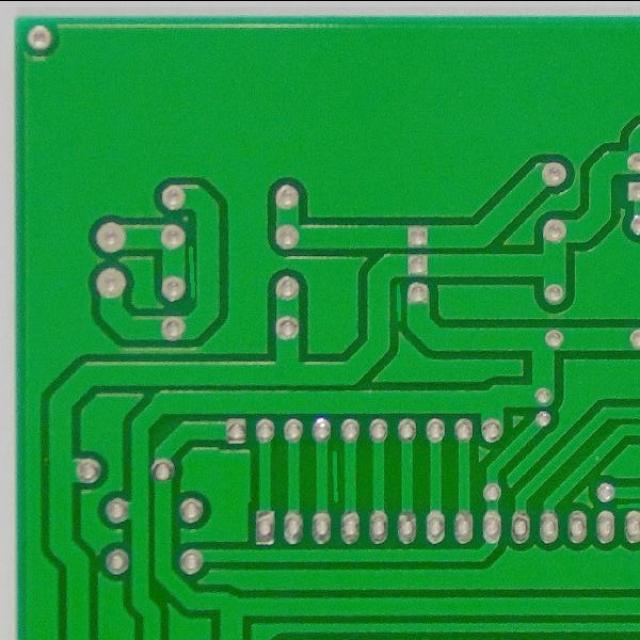Spurious_Cooper: (328, 447, 343, 507), (184, 242, 198, 303), (392, 280, 406, 323), (613, 498, 640, 512)
